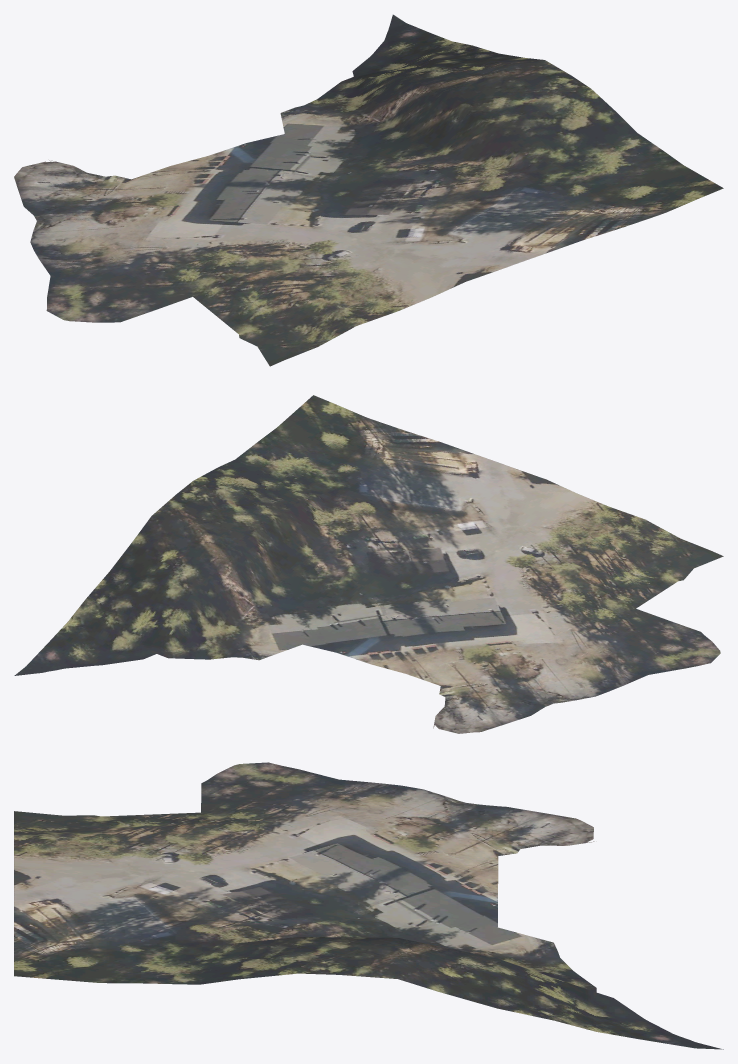
File: CM_Terrain_24489434_6822865.fbx
3 views of the same model, one above another, from view 1: azimuth 30°, elevation 25°; view 2: azimuth 150°, elevation 25°; view 3: azimuth 270°, elevation 25° (orthographic). The views are drawn at different scales.
Parts seen in each view (by area): view 1: CM_Terrain_24489434_6822865_LOD0; view 2: CM_Terrain_24489434_6822865_LOD0; view 3: CM_Terrain_24489434_6822865_LOD0.
Part boxes in pixels (x1=…): CM_Terrain_24489434_6822865_LOD0: x1=14, y1=14, x2=723, y2=366; CM_Terrain_24489434_6822865_LOD0: x1=14, y1=395, x2=723, y2=733; CM_Terrain_24489434_6822865_LOD0: x1=14, y1=762, x2=723, y2=1049.
Size of what is drawn, in the model's own units: 105 by 13.53 by 107.
